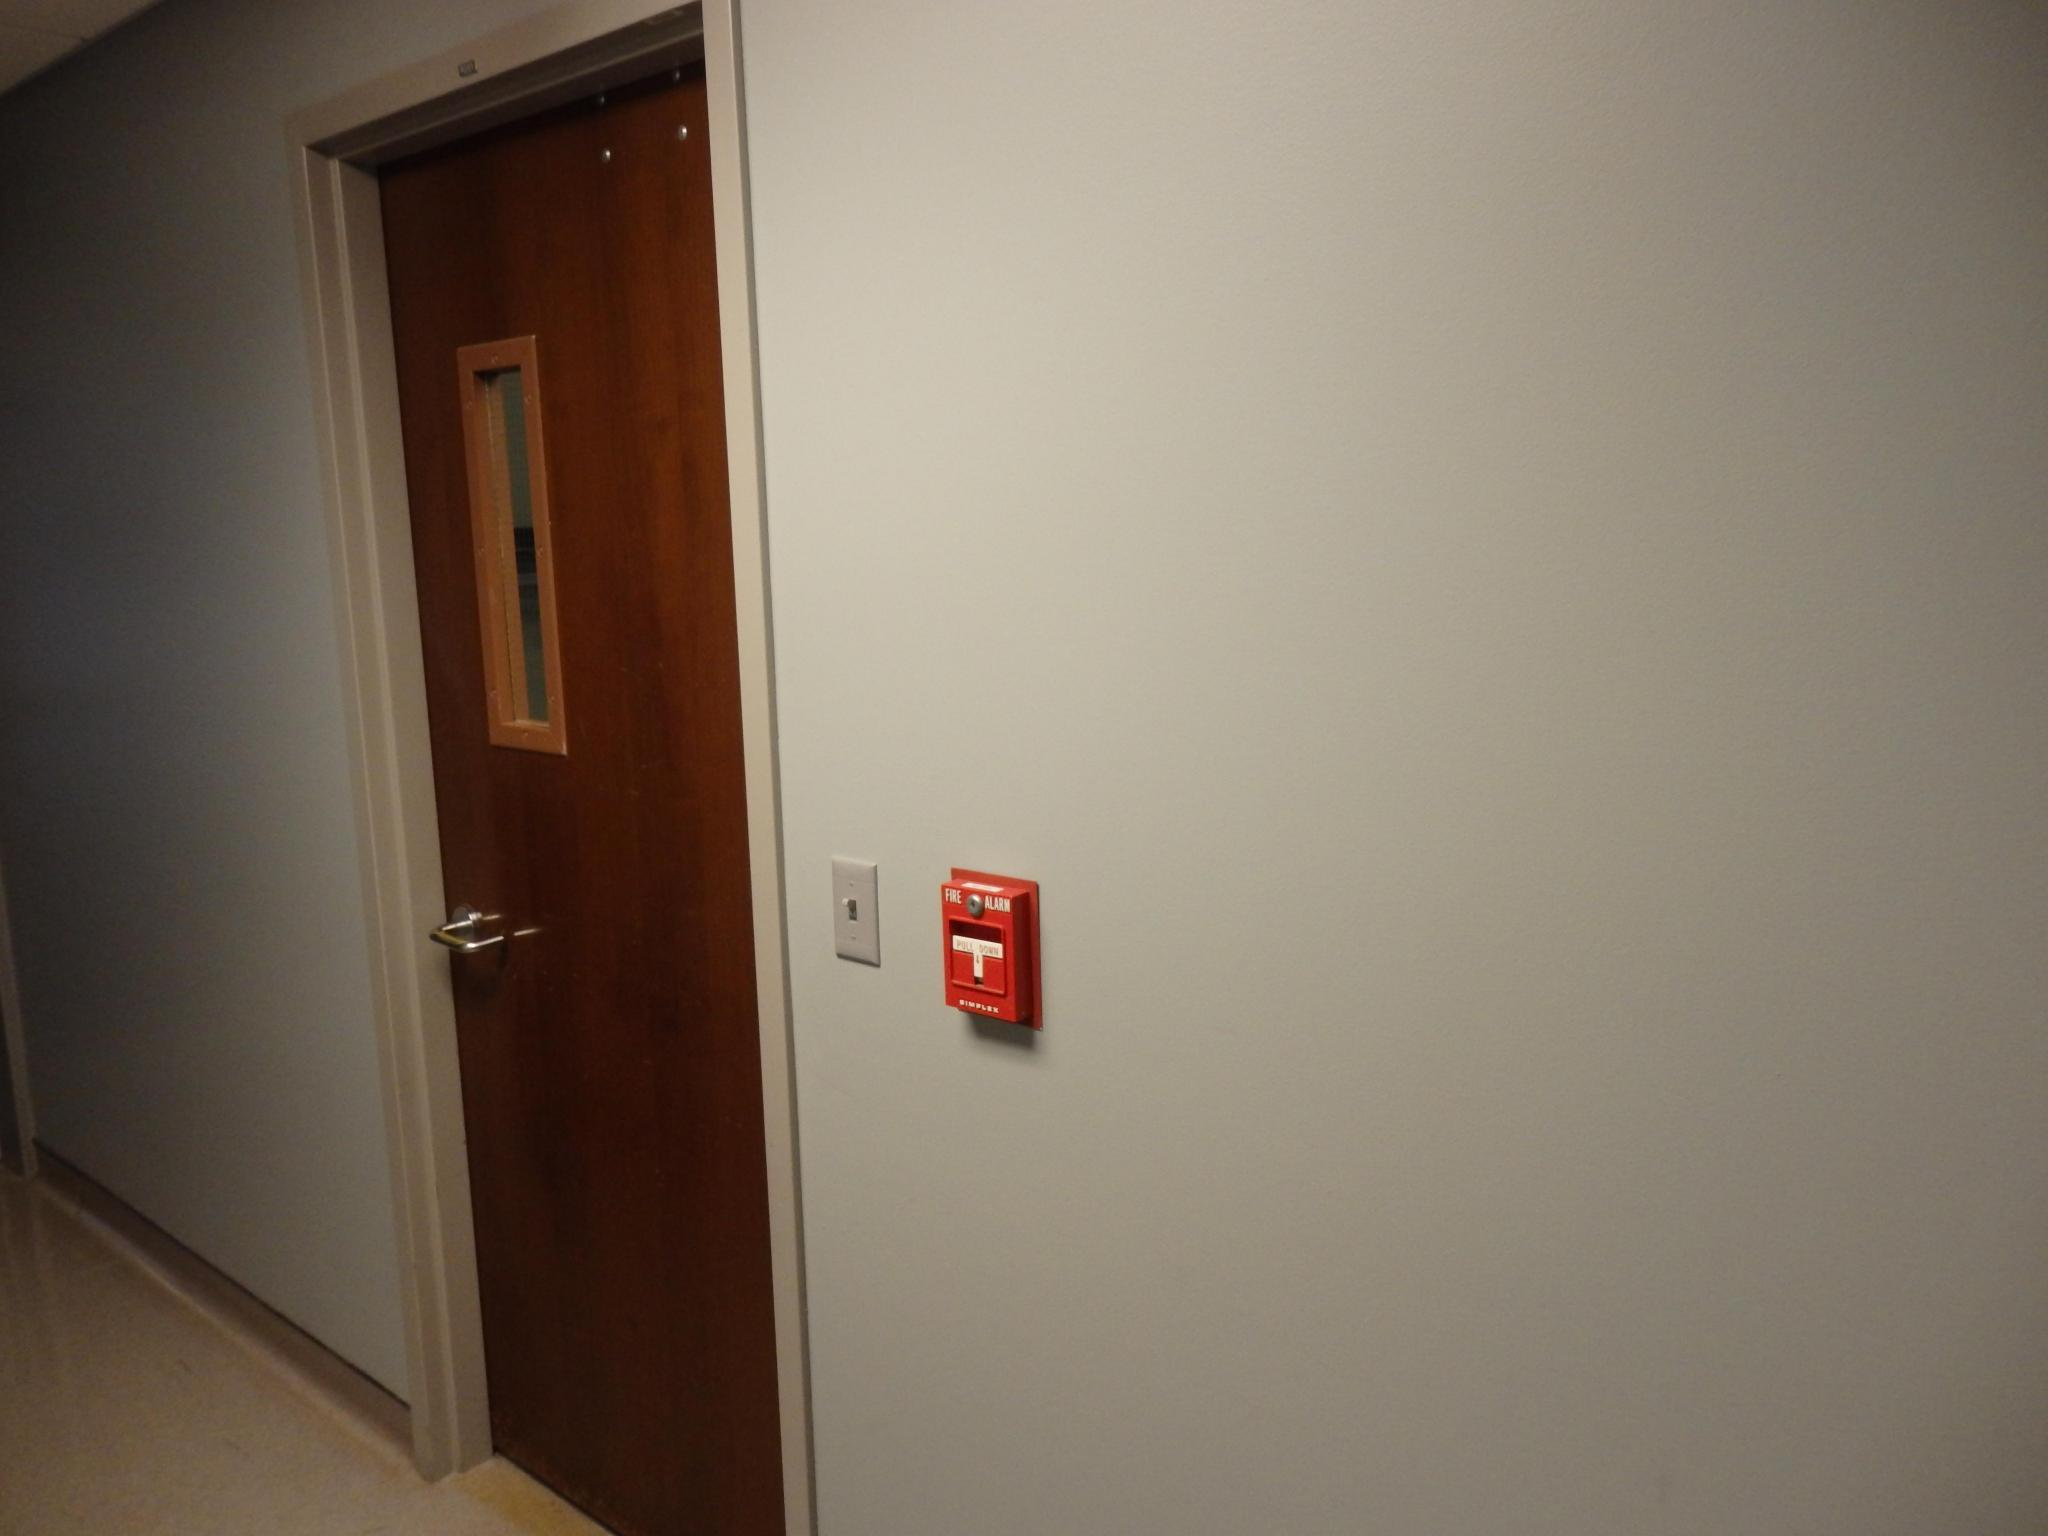door: (385, 176, 750, 1504)
handle: (427, 907, 514, 970)
